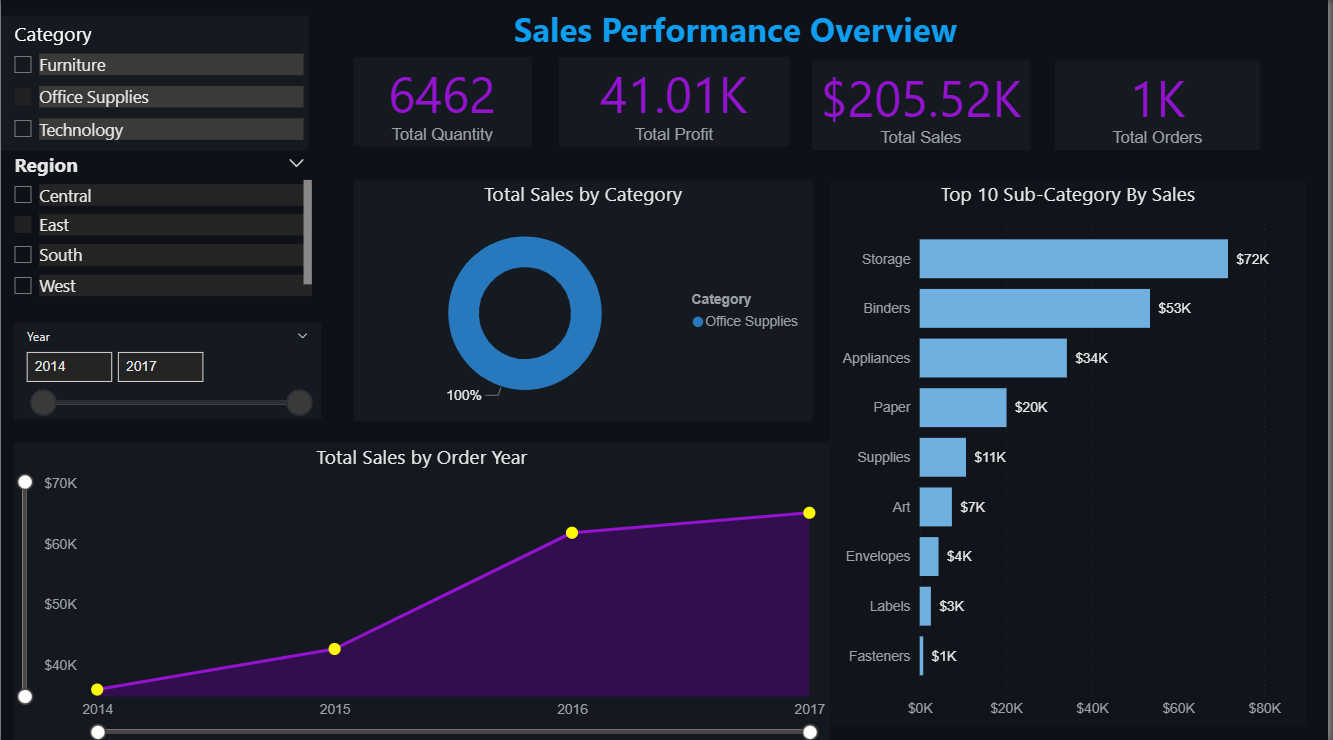

What the dashboard file says about the page in this screenshot:
{"tool":"powerbi","page":{"name":"Page 3","canvas":[1280,720],"ordinal":0},"visuals":[{"type":"slicer","fields":{"Values":["Sample - Superstore.Order Year"]},"box":[11.7,313.3,296.7,91.7],"z":0},{"type":"slicer","fields":{"Values":["Sample - Superstore.Category"]},"box":[0,16.7,296.7,130],"z":1000},{"type":"card","fields":{"Values":["Sample - Superstore.Total Quantity"]},"box":[340,56.7,171.7,86.7],"z":2000},{"type":"card","fields":{"Values":["Sample - Superstore.Total Profit"]},"box":[538.3,56.7,223.3,86.7],"z":3000},{"type":"card","fields":{"Values":["Sample - Superstore.Total Orders"]},"box":[1016.7,60,198.3,86.7],"z":4000},{"type":"card","fields":{"Values":["Sample - Superstore.Total Sales"]},"box":[783.3,60,210,86.7],"z":5000},{"type":"donutChart","fields":{"Category":["Sample - Superstore.Category"],"Y":["Sample - Superstore.Total Sales"]},"box":[340,176.7,443.3,231.7],"z":6000},{"type":"areaChart","fields":{"Category":["Sample - Superstore.Order Year"],"Y":["Sample - Superstore.Total Sales"]},"box":[11.7,430,788.3,290],"z":7000},{"type":"slicer","fields":{"Values":["Sample - Superstore.Region"]},"box":[0,143.3,305,150],"z":8000},{"type":"textbox","box":[490,3.3,468.3,53.3],"z":9000},{"type":"clusteredBarChart","title":"Top 10 Sub-Category By Sales","fields":{"Category":["Sample - Superstore.Sub-Category"],"Y":["Sample - Superstore.Total Sales"]},"box":[800,176.7,460,526.7],"z":10000}]}

Visuals, with their boxes in screenshot pixels (x1, y1, x2, y2), scaled from the page's 1280x720 canvas onto the 1333x740 screenshot:
slicer - Sample - Superstore.Order Year: 12:322:321:416
slicer - Sample - Superstore.Category: 0:17:309:151
card - Sample - Superstore.Total Quantity: 354:58:533:147
card - Sample - Superstore.Total Profit: 561:58:793:147
card - Sample - Superstore.Total Orders: 1059:62:1265:151
card - Sample - Superstore.Total Sales: 816:62:1034:151
donutChart - Sample - Superstore.Category x Sample - Superstore.Total Sales: 354:182:816:420
areaChart - Sample - Superstore.Order Year x Sample - Superstore.Total Sales: 12:442:833:739
slicer - Sample - Superstore.Region: 0:147:318:301
textbox: 510:3:998:58
"Top 10 Sub-Category By Sales" clusteredBarChart: 833:182:1312:723
